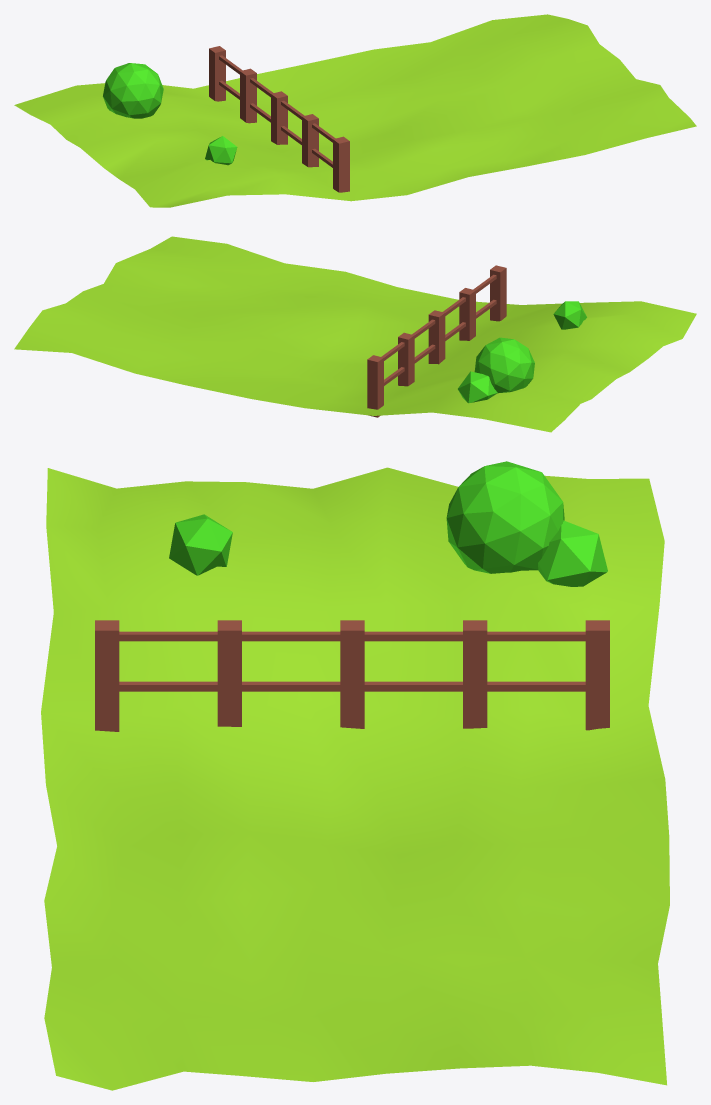
Rendered from backdrop_a.glb.
3 renders of one model, top to bottom at view 1: azimuth 30°, elevation 25°; view 2: azimuth 150°, elevation 25°; view 3: azimuth 270°, elevation 25°, orthographic. The views are drawn at different scales.
Visible parts, largest first — view 1: ground, fence, bushes; view 2: ground, fence, bushes; view 3: ground, fence, bushes.
Part boxes in pixels (box(x1,y1,x2,y2)): ground: box(14, 14, 696, 207); fence: box(209, 46, 349, 192); bushes: box(103, 63, 237, 165); ground: box(14, 236, 696, 432); fence: box(367, 265, 506, 417); bushes: box(458, 301, 586, 403); ground: box(41, 467, 669, 1090); fence: box(95, 620, 609, 731); bushes: box(169, 461, 607, 586).
Bounding box in the file's own units: 20.27 × 3.27 × 10.26.
